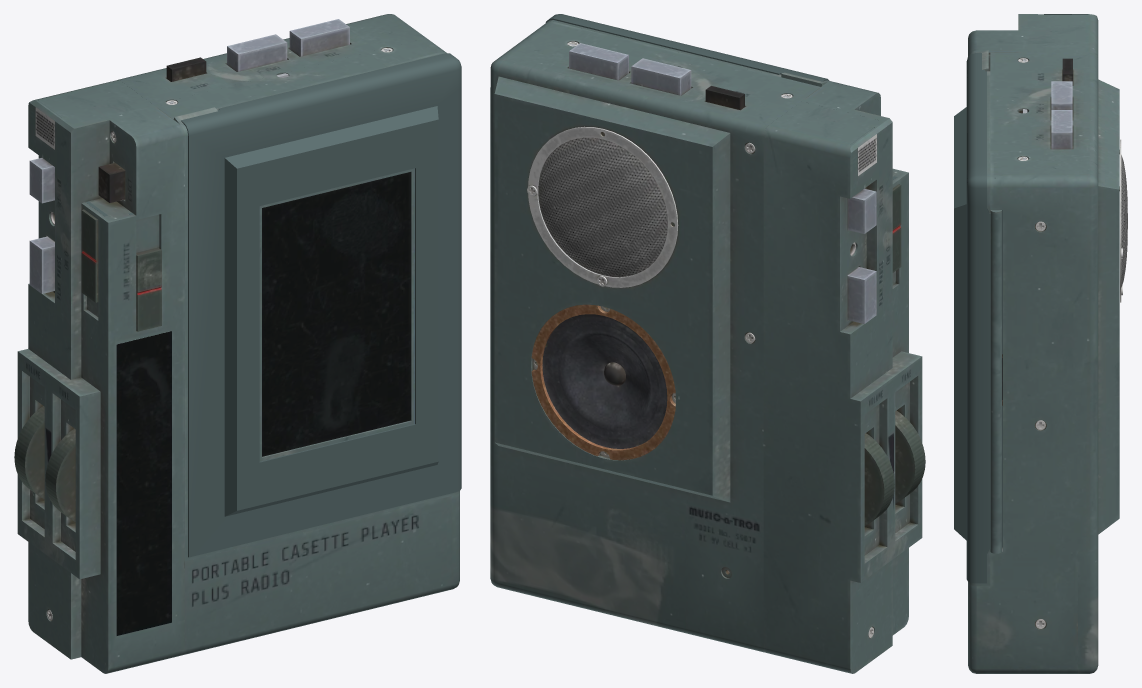
The model's file is cassette-player.glb.
3 views of the same model, side by side, from view 1: azimuth 30°, elevation 25°; view 2: azimuth 150°, elevation 25°; view 3: azimuth 270°, elevation 25° (orthographic). The views are drawn at different scales.
Parts seen in each view (by area): view 1: lid, front_case, back_cover; view 2: back_cover, front_case, lid; view 3: back_cover, front_case, lid.
Part boxes in pixels (bbox=[...]): lid: bbox=[174, 53, 461, 560]; front_case: bbox=[45, 38, 459, 673]; back_cover: bbox=[14, 14, 427, 655]; back_cover: bbox=[490, 35, 898, 673]; front_case: bbox=[529, 21, 925, 648]; lid: bbox=[545, 14, 829, 86]; back_cover: bbox=[1027, 14, 1127, 673]; front_case: bbox=[968, 14, 1028, 673]; lid: bbox=[954, 50, 1001, 585].
Bounding box in the file's own units: 0.0983 × 0.1303 × 0.0401.
Materials: 19 (2 with a texture image).
